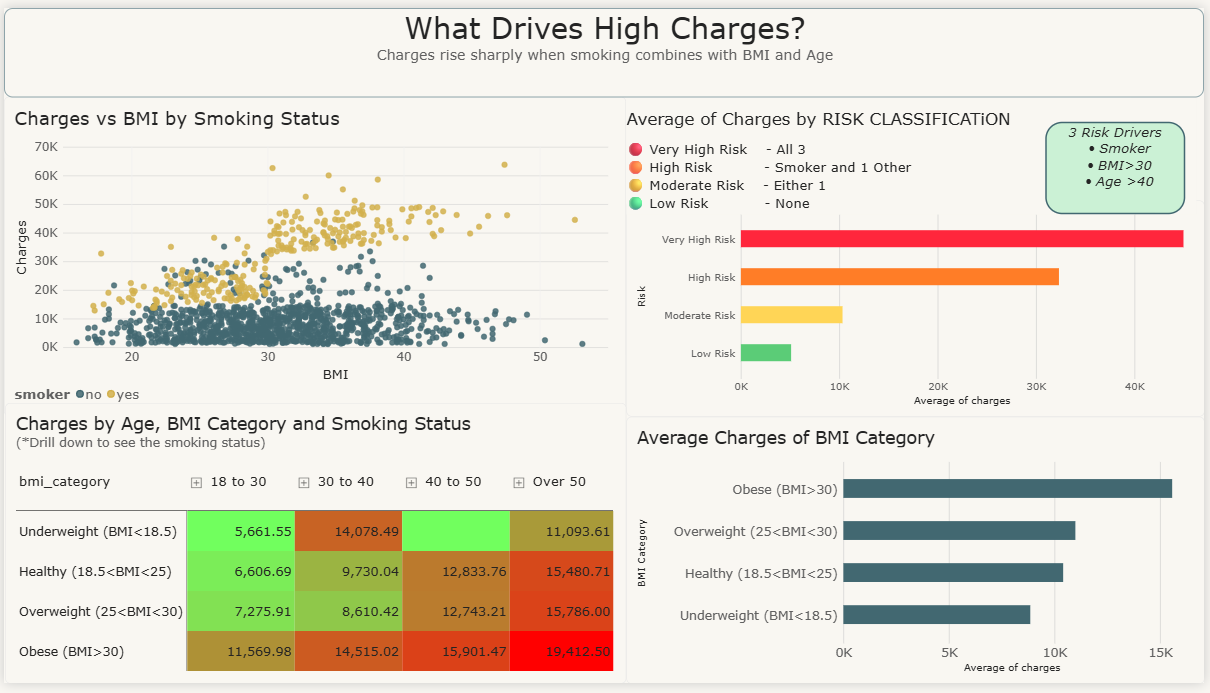

The page's visual inventory and layout, read from the dashboard file:
{"tool":"powerbi","page":{"name":"Risk Drivers","canvas":[1920,1080],"ordinal":1},"visuals":[{"type":"scatterChart","title":"Charges vs BMI by Smoking Status","fields":{"X":["Avg(insurance.bmi)"],"Y":["Avg(insurance.charges)"],"Category":["insurance.charges"],"Series":["insurance.smoker"]},"box":[0,143,995.3,510.3],"z":0},{"type":"barChart","fields":{"Category":["insurance.Custom"],"Y":["Avg(insurance.charges)"]},"box":[995.3,307.6,924.7,345.6],"z":1000},{"type":"barChart","title":"Average Chages of BMI Category","fields":{"Category":["insurance.bmi_category"],"Y":["Avg(insurance.charges)"]},"box":[995.3,653.3,924.7,427.1],"z":2000},{"type":"pivotTable","title":"Charges by Age, BMI Category and Smoking Status","fields":{"Rows":["insurance.bmi_category"],"Columns":["insurance.age_group","insurance.smoker"],"Values":["Avg(insurance.charges)"]},"box":[1.8,631.6,993.5,448.8],"z":3000},{"type":"textbox","box":[995.3,143,912.1,188.2],"z":4000},{"type":"textbox","box":[1666.7,182.8,224.4,148.4],"z":5000},{"type":"textbox","title":"What Drives High Charges?","box":[0,0,1920.1,143],"z":6000}]}

Visuals, with their boxes in screenshot pixels (x1, y1, x2, y2), scaled from the page's 1920x1080 canvas onto the 1210x693 screenshot:
"Charges vs BMI by Smoking Status" scatterChart: <region>0, 92, 627, 419</region>
barChart - insurance.Custom x Avg(insurance.charges): <region>627, 197, 1209, 419</region>
"Average Chages of BMI Category" barChart: <region>627, 419, 1209, 692</region>
"Charges by Age, BMI Category and Smoking Status" pivotTable: <region>1, 405, 627, 692</region>
textbox: <region>627, 92, 1202, 213</region>
textbox: <region>1050, 117, 1192, 213</region>
"What Drives High Charges?" textbox: <region>0, 0, 1209, 92</region>
